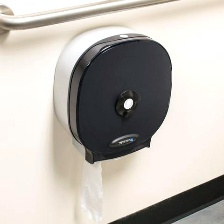plastic_box: (45, 19, 178, 169)
tissue: (75, 149, 108, 223)
